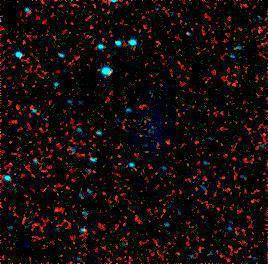star: (153, 132, 183, 162)
